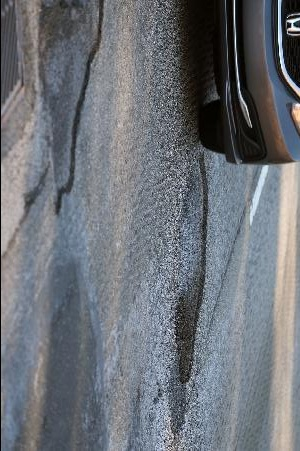pothole: (36, 0, 107, 216), (170, 153, 211, 385)
